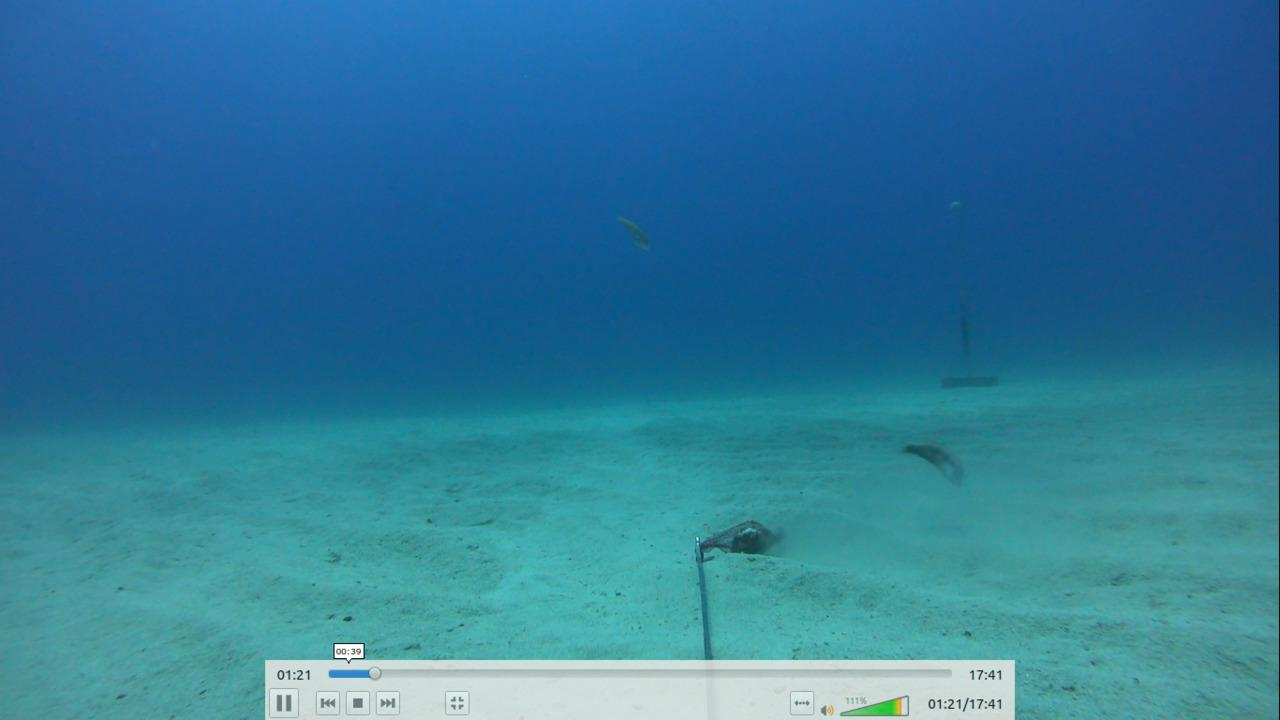raor: (894, 433, 969, 488), (615, 214, 652, 258)
